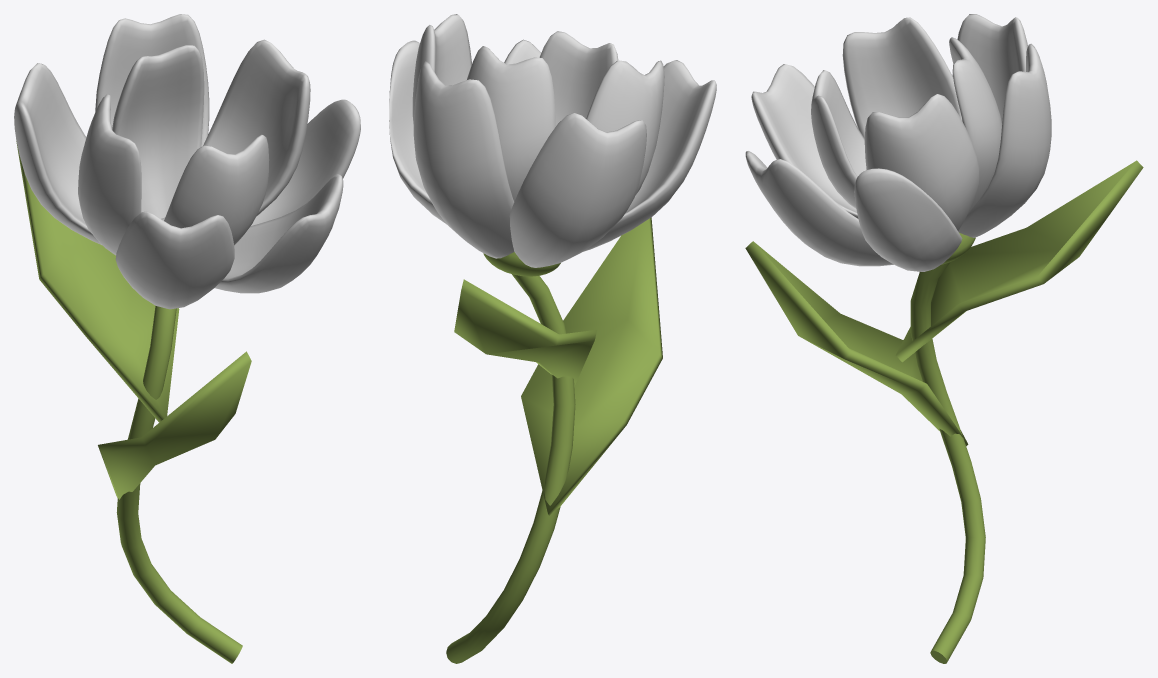
The model's file is Flower.glb.
The picture shows the model from 3 angles, left to right: view 1: azimuth 30°, elevation 25°; view 2: azimuth 150°, elevation 25°; view 3: azimuth 270°, elevation 25°; orthographic projection. The views are drawn at different scales.
Visible parts, largest first — view 1: 平面.001, 平面.008, 平面.007, 平面.004, 平面.002, 平面.010, 贝塞尔曲线, 平面.006, 平面.005, 平面.003, 平面.009, 平面; view 2: 平面.010, 平面.002, 平面, 贝塞尔曲线, 平面.004, 平面.008, 平面.001, 平面.003, 平面.005, 平面.009, 平面.007, 球体 (+1 smaller); view 3: 平面.001, 平面.010, 平面.007, 平面.003, 平面, 贝塞尔曲线, 平面.009, 平面.006, 平面.004, 平面.005, 平面.008, 平面.002.
Part boxes in pixels (x1,y1,x2,y2): 平面.001: (16, 141, 179, 422); 平面.008: (112, 45, 204, 218); 平面.007: (203, 39, 310, 216); 平面.004: (115, 211, 234, 309); 平面.002: (14, 63, 101, 244); 平面.010: (98, 351, 251, 499); 贝塞尔曲线: (116, 306, 242, 663); 平面.006: (215, 174, 343, 293); 平面.005: (164, 134, 269, 245); 平面.003: (78, 94, 141, 255); 平面.009: (251, 99, 360, 225); 平面: (95, 14, 209, 146); 平面.010: (521, 217, 662, 515); 平面.002: (509, 112, 646, 267); 平面: (413, 61, 514, 258); 贝塞尔曲线: (446, 274, 575, 663); 平面.004: (583, 60, 716, 251); 平面.008: (467, 46, 555, 201); 平面.001: (454, 279, 597, 386); 平面.003: (586, 60, 664, 195); 平面.005: (539, 31, 618, 125); 平面.009: (389, 40, 446, 224); 平面.007: (412, 14, 471, 123); 球体: (483, 252, 560, 276); 平面.001: (895, 160, 1143, 362); 平面.010: (745, 241, 968, 446); 平面.007: (864, 94, 979, 230); 平面.003: (842, 17, 961, 138); 平面: (958, 43, 1051, 237); 贝塞尔曲线: (910, 262, 985, 663); 平面.009: (854, 168, 962, 271); 平面.006: (745, 151, 893, 266); 平面.004: (751, 64, 858, 218); 平面.005: (811, 70, 866, 208); 平面.008: (949, 37, 1001, 212); 平面.002: (952, 14, 1027, 124).
Size of the model in its own units: 3.06 by 6.39 by 3.91.
